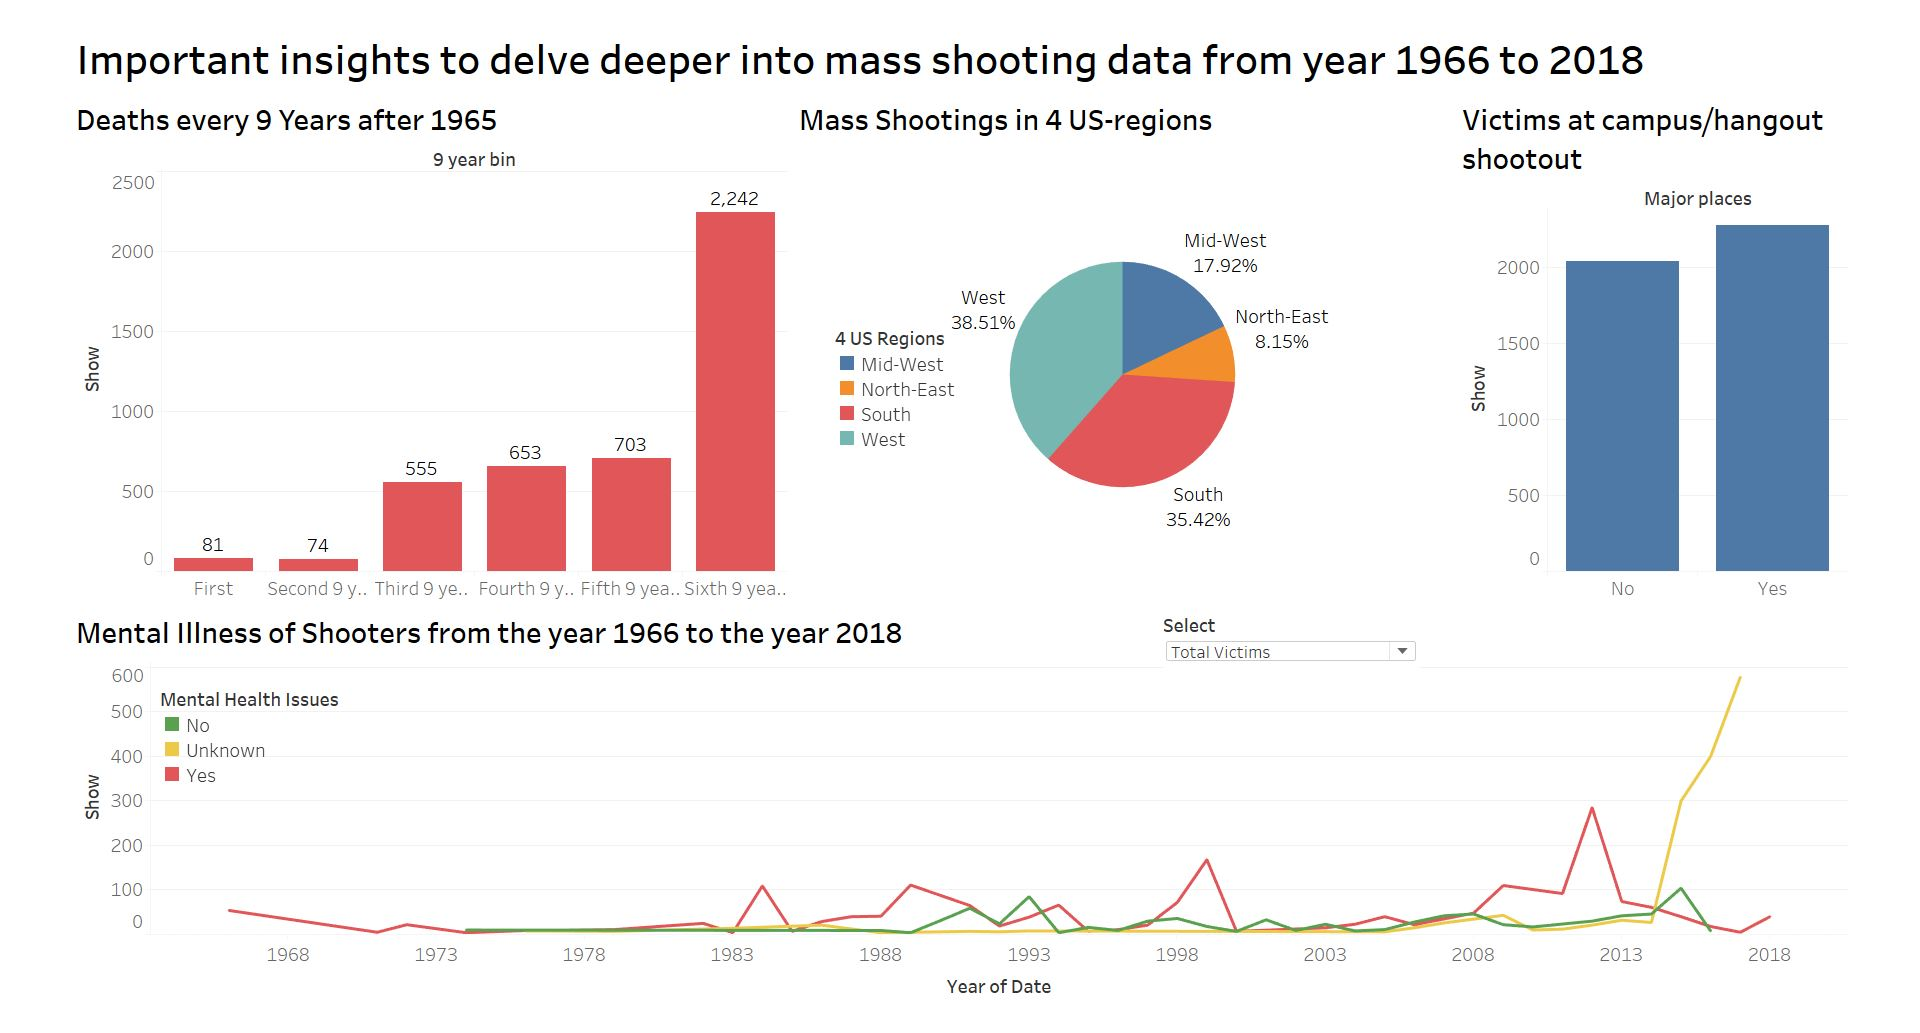

The dashboard page shown, as its layout file describes it:
{"tool":"tableau","page":{"name":"Project Dashborad","canvas":[1800,1000],"ordinal":0},"visuals":[{"type":"text","box":[8,8,1784,66]},{"type":"worksheet","title":"Victims","mark":"Automatic","rows":["Calculation_2436165959845904384"],"box":[8,74,722.8,512.9]},{"type":"worksheet","title":"Region-wise","mark":"Pie","box":[730.7,74,662.8,512.9]},{"type":"worksheet","title":"Major places","mark":"Automatic","rows":["Calculation_2436165959845904384"],"cols":["Major places"],"box":[1393.5,74,398.5,512.9]},{"type":"legend","title":"Region-wise","param":"[federated.0r1wv940zh8op91emz12r1bpsykb].[4 US Regions]","box":[771.3,303.8,152.7,198.8]},{"type":"worksheet","title":"Mental Health","mark":"Automatic","rows":["Calculation_2436165959845904384"],"cols":["Date"],"box":[8,586.9,1784,405.2]},{"type":"parameter","param":"[Parameters].[Parameter 1]","box":[1099,591,264,65]},{"type":"legend","title":"Mental Health","param":"[federated.0r1wv940zh8op91emz12r1bpsykb].[none:Mental Health Issues:nk]","box":[96.4,664.7,224.5,125.9]}]}

Visuals, with their boxes on the page's 1800x1000 design canvas (x1, y1, x2, y2). These are canvas units, not pixel positions in the 1920x1033 screenshot, which may show the page scaled, cropped or inside an application window:
text: 8,8,1792,74
"Victims" worksheet: 8,74,731,587
"Region-wise" worksheet (Pie marks): 731,74,1394,587
"Major places" worksheet: 1394,74,1792,587
"Region-wise" legend: 771,304,924,503
"Mental Health" worksheet: 8,587,1792,992
parameter: 1099,591,1363,656
"Mental Health" legend: 96,665,321,791
